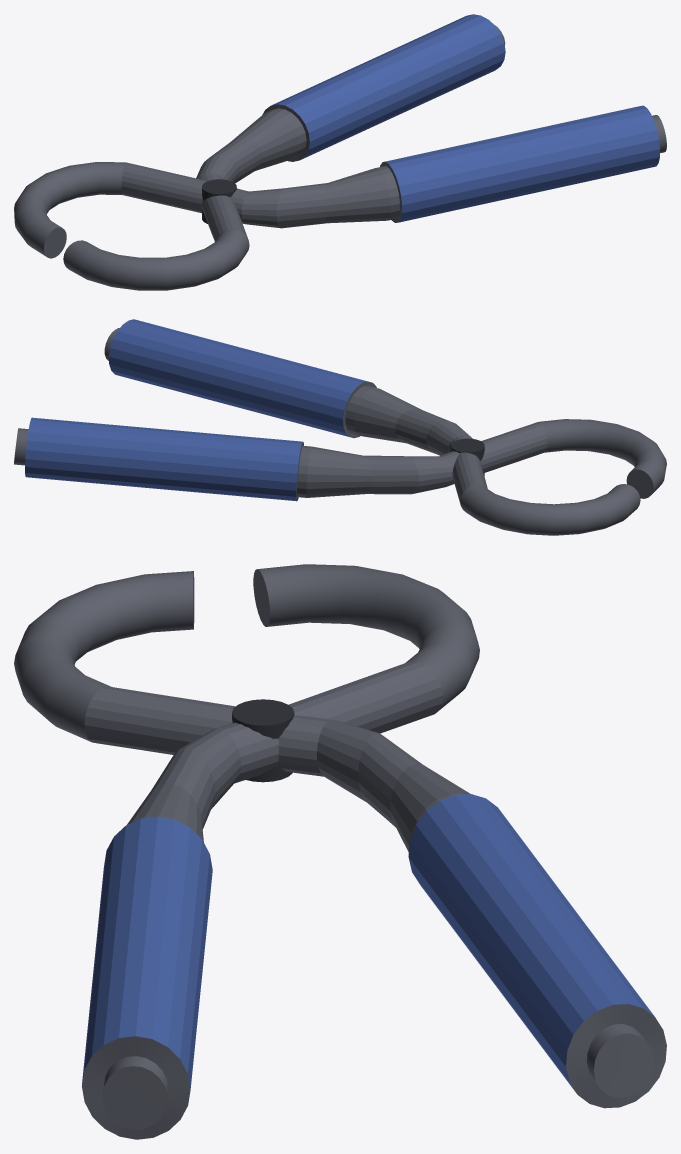
Rendered from 3D_Model_Nipper.fbx.
3 renders of one model, top to bottom at view 1: azimuth 30°, elevation 25°; view 2: azimuth 150°, elevation 25°; view 3: azimuth 270°, elevation 25°, orthographic. The views are drawn at different scales.
Parts seen in each view (by area): view 1: polySurface4, polySurface3, polySurface2; view 2: polySurface3, polySurface4, polySurface2; view 3: polySurface3, polySurface4, polySurface2.
Part boxes in pixels (x1,y1,x2,y2): polySurface4: (14, 105, 666, 258); polySurface3: (63, 14, 505, 290); polySurface2: (202, 179, 236, 223); polySurface3: (14, 417, 666, 501); polySurface4: (104, 319, 640, 535); polySurface2: (451, 438, 484, 475); polySurface3: (14, 571, 666, 1108); polySurface4: (82, 564, 479, 1139); polySurface2: (232, 699, 294, 782).
Bounding box in the file's own units: 8.19 × 0.7972 × 4.42.
